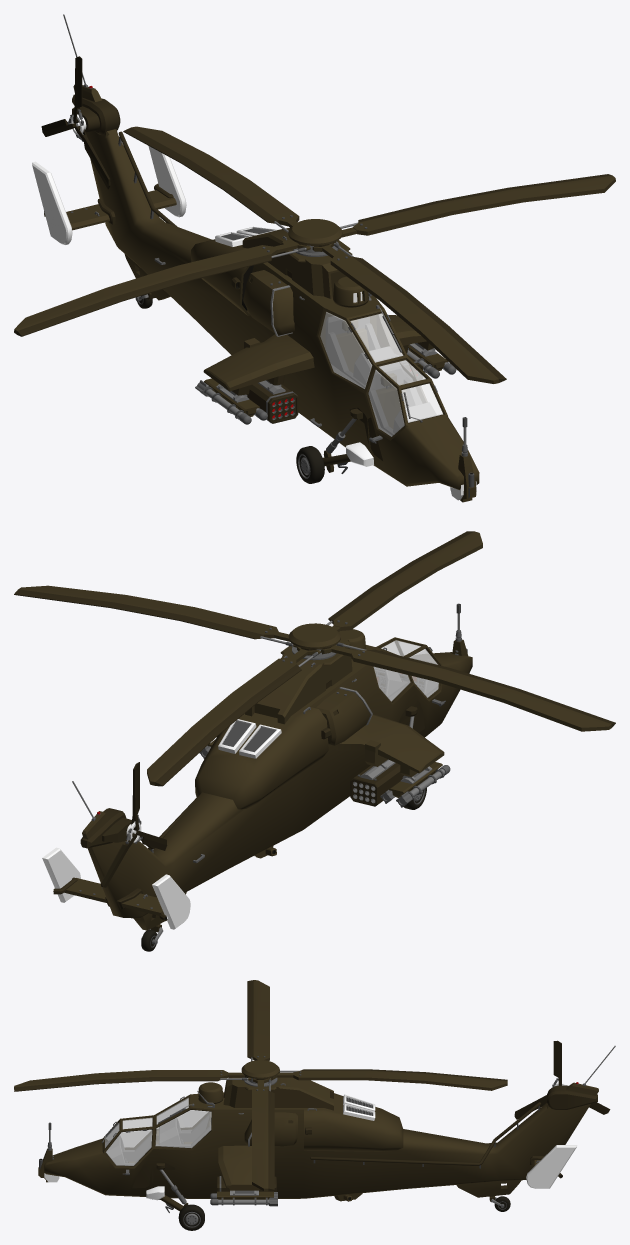
File: Attack Helicopter.fbx
The picture shows the model from 3 angles, top to bottom: view 1: azimuth 30°, elevation 25°; view 2: azimuth 150°, elevation 25°; view 3: azimuth 270°, elevation 25°; orthographic projection. The views are drawn at different scales.
Visible parts, largest first — view 1: AttackHeli Hull, Rotor Blades, Tail Rotor Blades, Rotor, Missiles, Windshield HUD Mask, Turret Pitch; view 2: AttackHeli Hull, Rotor Blades, Tail Rotor Blades, Rotor, Missiles; view 3: AttackHeli Hull, Rotor Blades, Tail Rotor Blades, Rotor, Missiles.
Part boxes in pixels (x1=…): AttackHeli Hull: x1=32, y1=14, x2=479, y2=489; Rotor Blades: x1=14, y1=126, x2=615, y2=383; Tail Rotor Blades: x1=41, y1=56, x2=110, y2=189; Rotor: x1=288, y1=219, x2=342, y2=256; Missiles: x1=195, y1=350, x2=456, y2=424; Windshield HUD Mask: x1=402, y1=384, x2=442, y2=422; Turret Pitch: x1=458, y1=417, x2=476, y2=502; AttackHeli Hull: x1=42, y1=629, x2=472, y2=951; Rotor Blades: x1=14, y1=531, x2=615, y2=786; Tail Rotor Blades: x1=100, y1=762, x2=167, y2=887; Rotor: x1=288, y1=623, x2=340, y2=660; Missiles: x1=199, y1=745, x2=450, y2=807; AttackHeli Hull: x1=44, y1=1045, x2=615, y2=1230; Rotor Blades: x1=14, y1=980, x2=507, y2=1191; Tail Rotor Blades: x1=514, y1=1040, x2=610, y2=1119; Rotor: x1=241, y1=1060, x2=279, y2=1086; Missiles: x1=210, y1=1192, x2=277, y2=1206.
Size of the model in its own units: 1443 by 533 by 1758.
